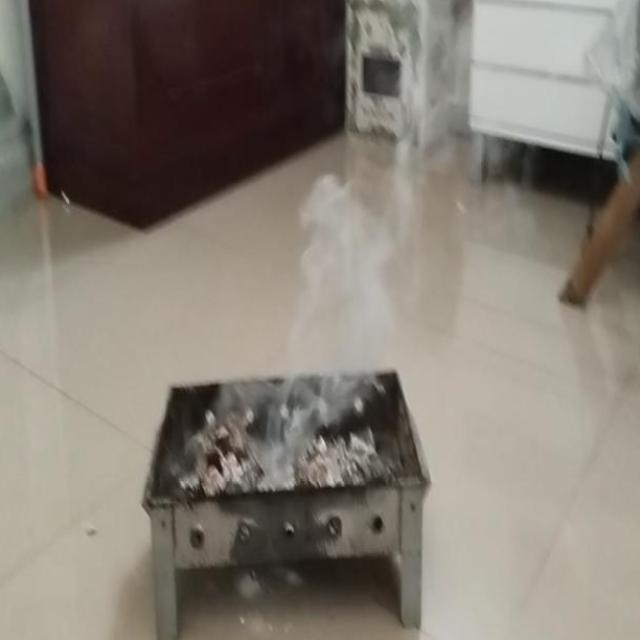fire: (268, 172, 397, 470)
